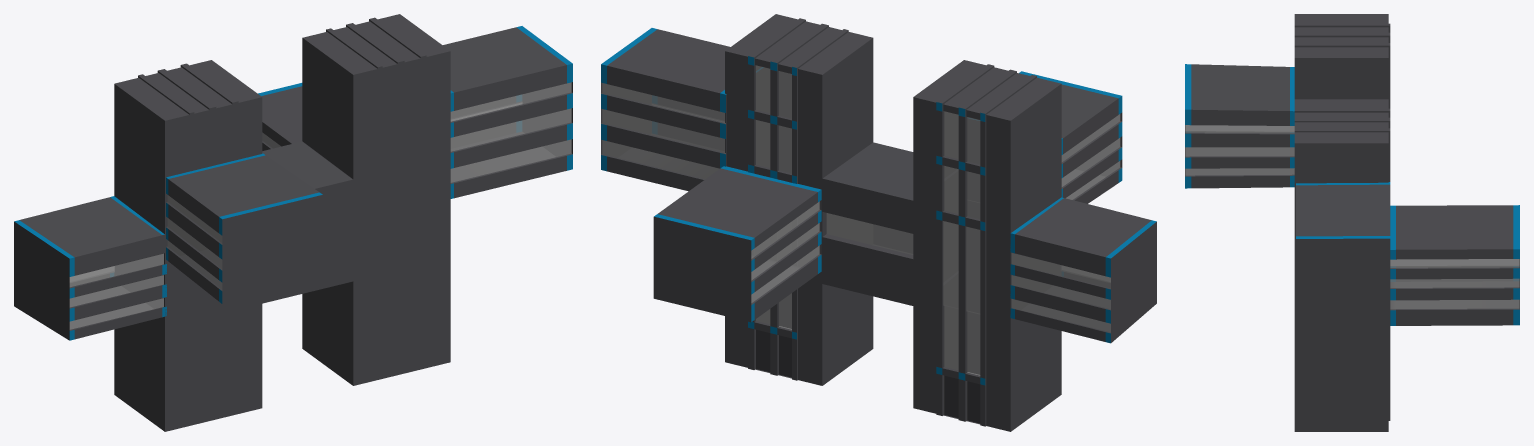
Rendered from Bridging_B.fbx.
3 renders of one model, left to right at view 1: azimuth 30°, elevation 25°; view 2: azimuth 150°, elevation 25°; view 3: azimuth 270°, elevation 25°, orthographic. The views are drawn at different scales.
Visible parts, largest first — view 1: Bridging_B; view 2: Bridging_B; view 3: Bridging_B.
Boxes of the visible parts, left/top/right/bottom form: Bridging_B: left=14, top=14, right=572, bottom=431; Bridging_B: left=601, top=14, right=1156, bottom=431; Bridging_B: left=1185, top=14, right=1519, bottom=431.
Size of the model in its own units: 32929 by 19332 by 20212.
